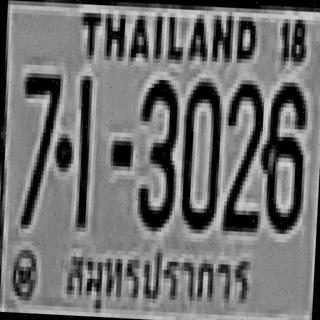N00: (179, 77, 221, 226)
N01: (73, 76, 93, 228)
N02: (221, 79, 263, 228)
N03: (134, 75, 179, 228)
N06: (258, 77, 307, 230)
N07: (16, 69, 61, 226)
P57: (61, 239, 258, 320)
